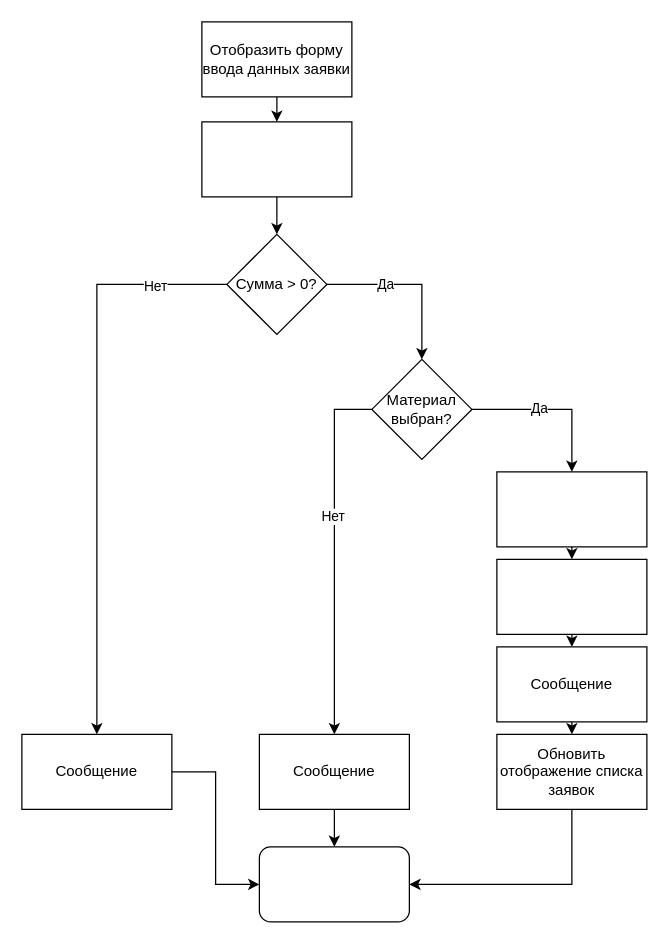
Some shapes in this 669 by 944 pixel diagram are drawn without their labels. Here are the shapes that lost their labels. From the top down, the centre of each, then its label:
point (276, 159): Получить данные от пользователя
point (571, 509): Определить id заявки
point (571, 596): Сохранить запись о заявке в бд
point (333, 884): Завершение функции
